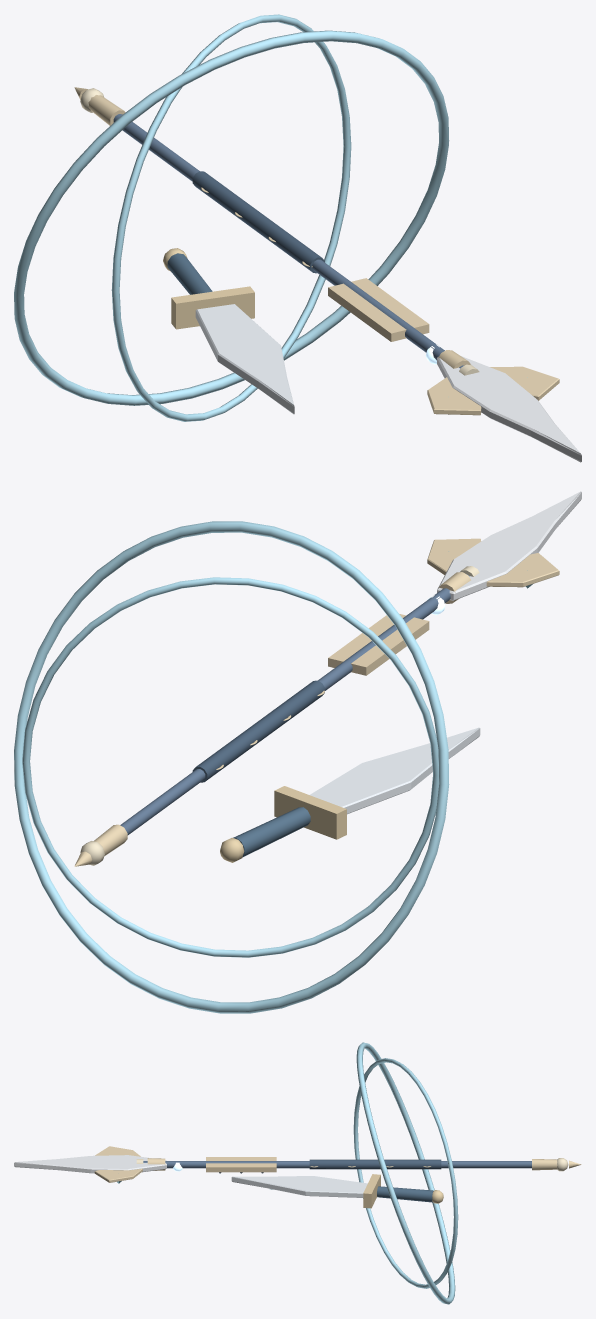
Rendered from zenith_right.glb.
3 views of the same model, one above another, from view 1: azimuth 30°, elevation 25°; view 2: azimuth 150°, elevation 25°; view 3: azimuth 270°, elevation 25° (orthographic). The views are drawn at different scales.
Parts seen in each view (by area): view 1: zenith_right; view 2: zenith_right; view 3: zenith_right.
Boxes of the visible parts, bbox=[...] form: zenith_right: bbox=[14, 14, 581, 462]; zenith_right: bbox=[14, 491, 581, 1013]; zenith_right: bbox=[14, 1042, 581, 1304].
Bounding box in the file's own units: 1.13 × 1.06 × 2.32.
